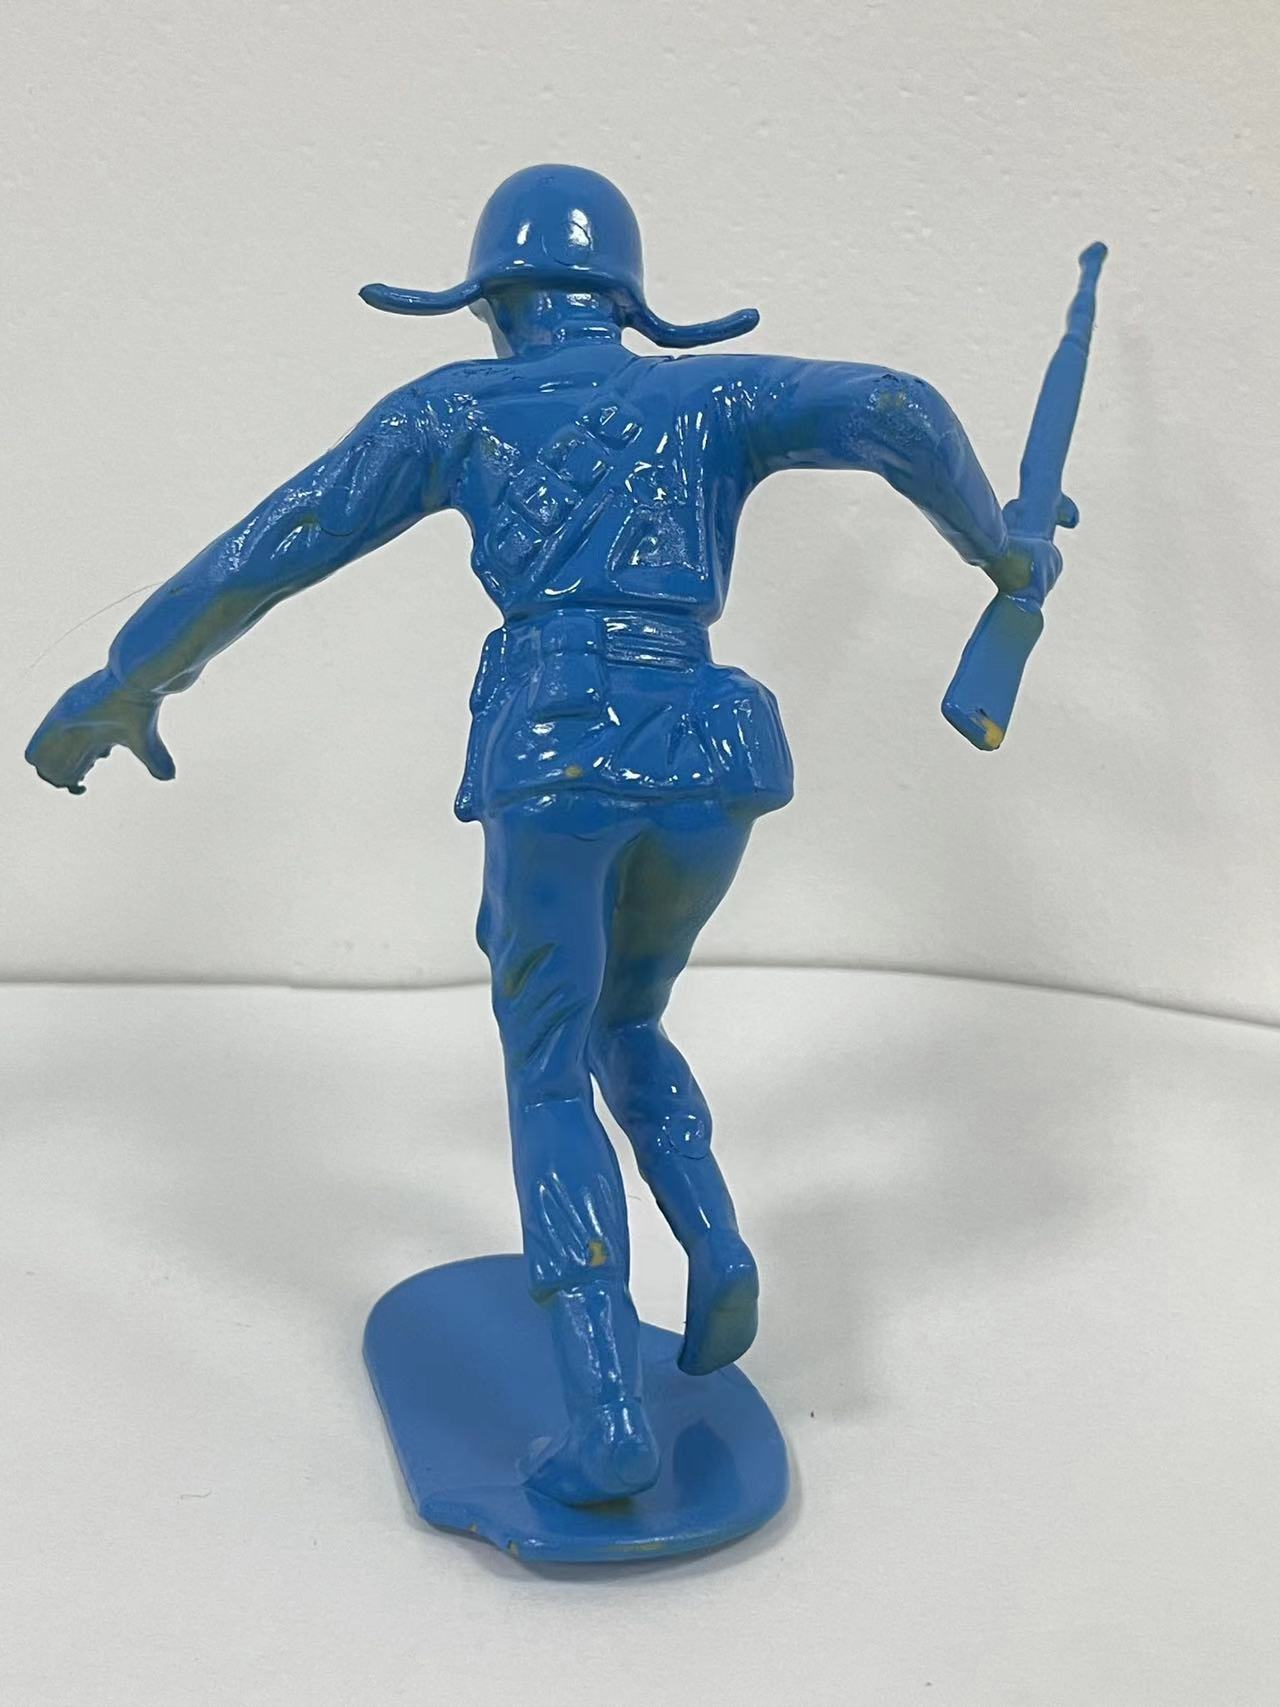blue: (24, 121, 1189, 1637)
